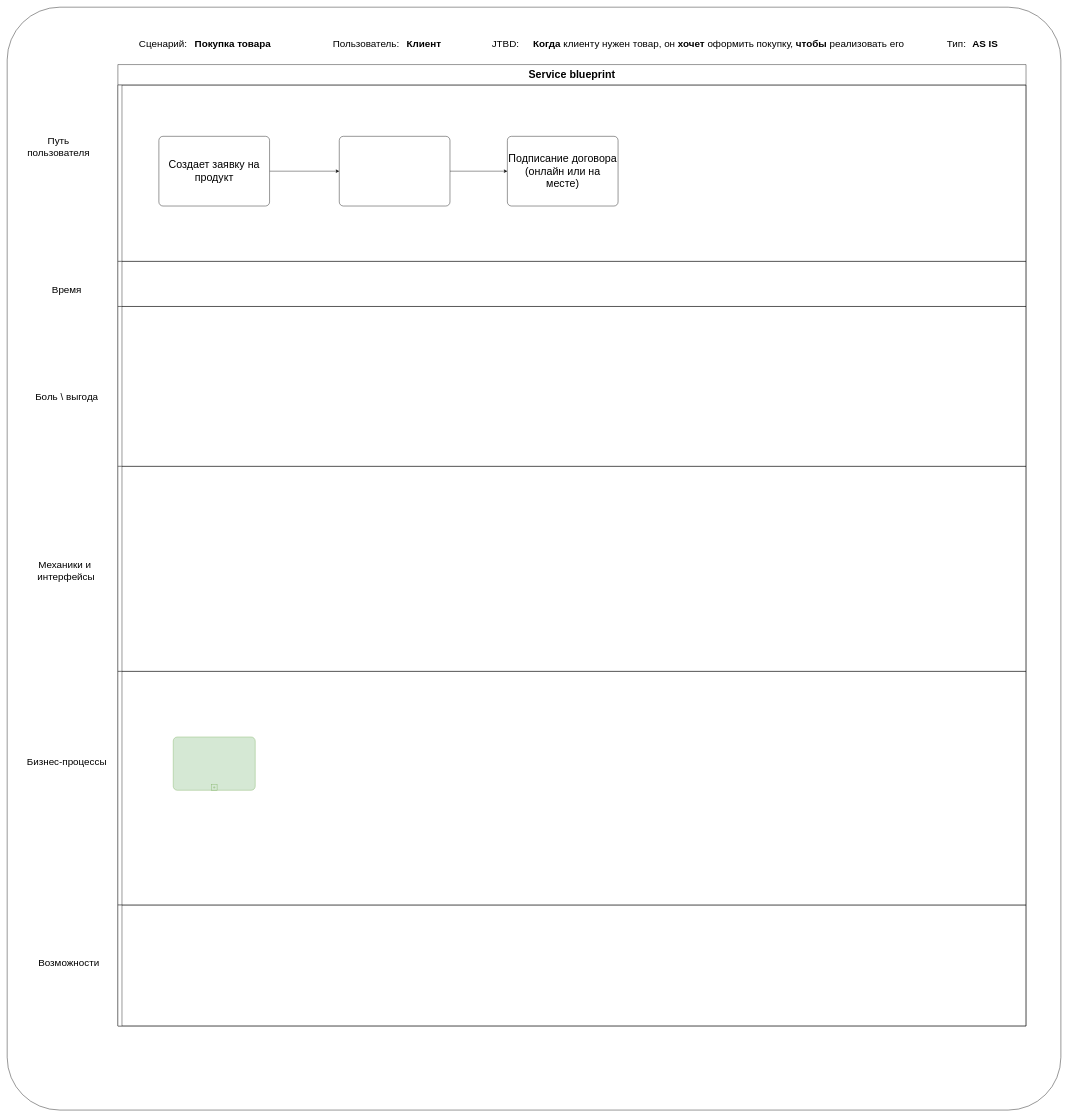
The diagram is 1068 pixels wide and 1117 high, and some of its shapes have lost their labels. Each missing label, with the centre of its shape:
"Знакомство с услугой" goes at (x=214, y=763).
"Созвон с менеджером" goes at (x=394, y=171).
